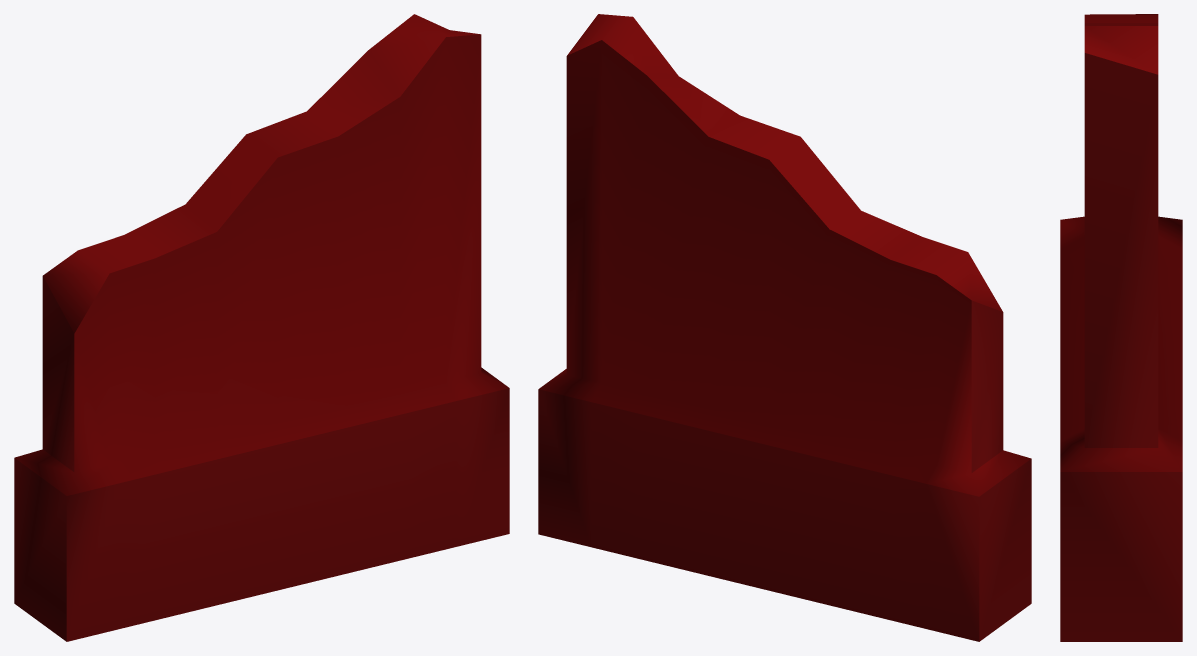
The model's file is geology-carvedstone-gravestone_v7.fbx.
3 views of the same model, side by side, from view 1: azimuth 30°, elevation 25°; view 2: azimuth 150°, elevation 25°; view 3: azimuth 270°, elevation 25° (orthographic). The views are drawn at different scales.
Visible parts, largest first — view 1: Gravestone_v7; view 2: Gravestone_v7; view 3: Gravestone_v7.
Boxes of the visible parts, x1,y1,x2,y2 form: Gravestone_v7: (14, 14, 509, 641); Gravestone_v7: (538, 14, 1031, 641); Gravestone_v7: (1060, 14, 1182, 641).
Bounding box in the file's own units: 3.58 × 3.87 × 0.7343.
